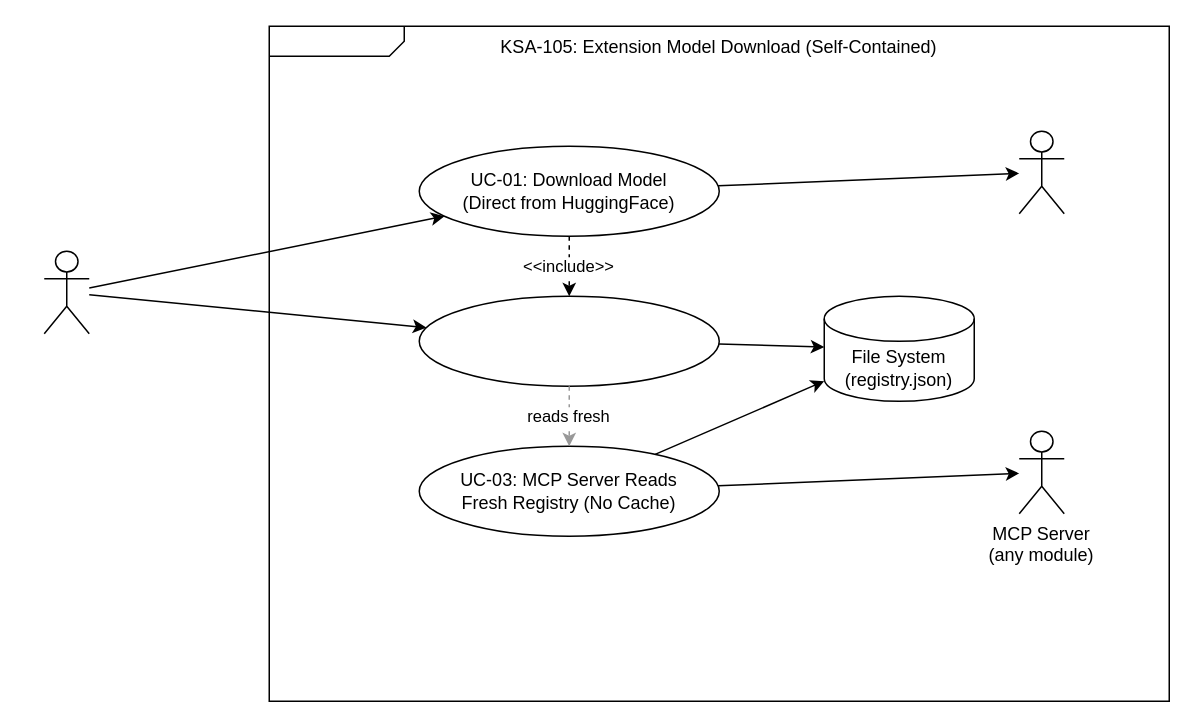
Some shapes in this 1196 by 728 pixel diagram are drawn without their labels. Here are the shapes that lost their labels. From the top down, the box of each, then its label:
(1018, 130, 1064, 214): HuggingFace Hub
(43, 250, 89, 334): Developer
(418, 295, 719, 386): UC-02: Switch Active Model (Local registry.json)
